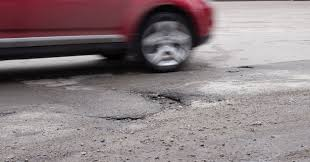pothole: (118, 81, 199, 126)
